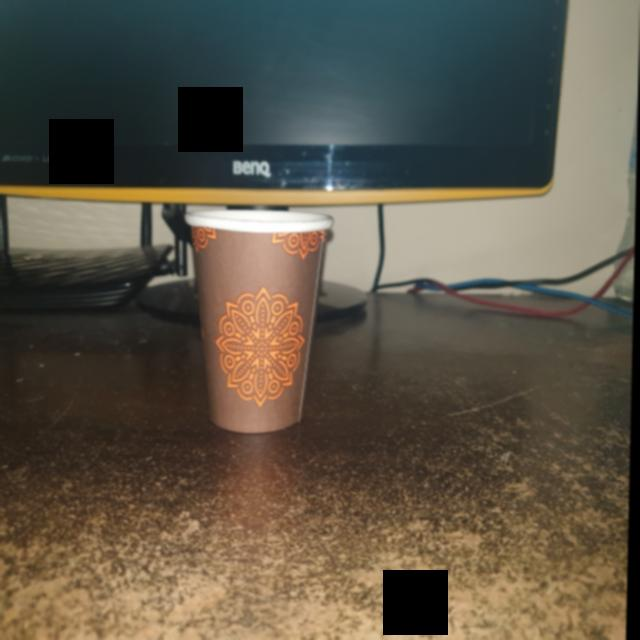cups: (179, 197, 339, 445)
